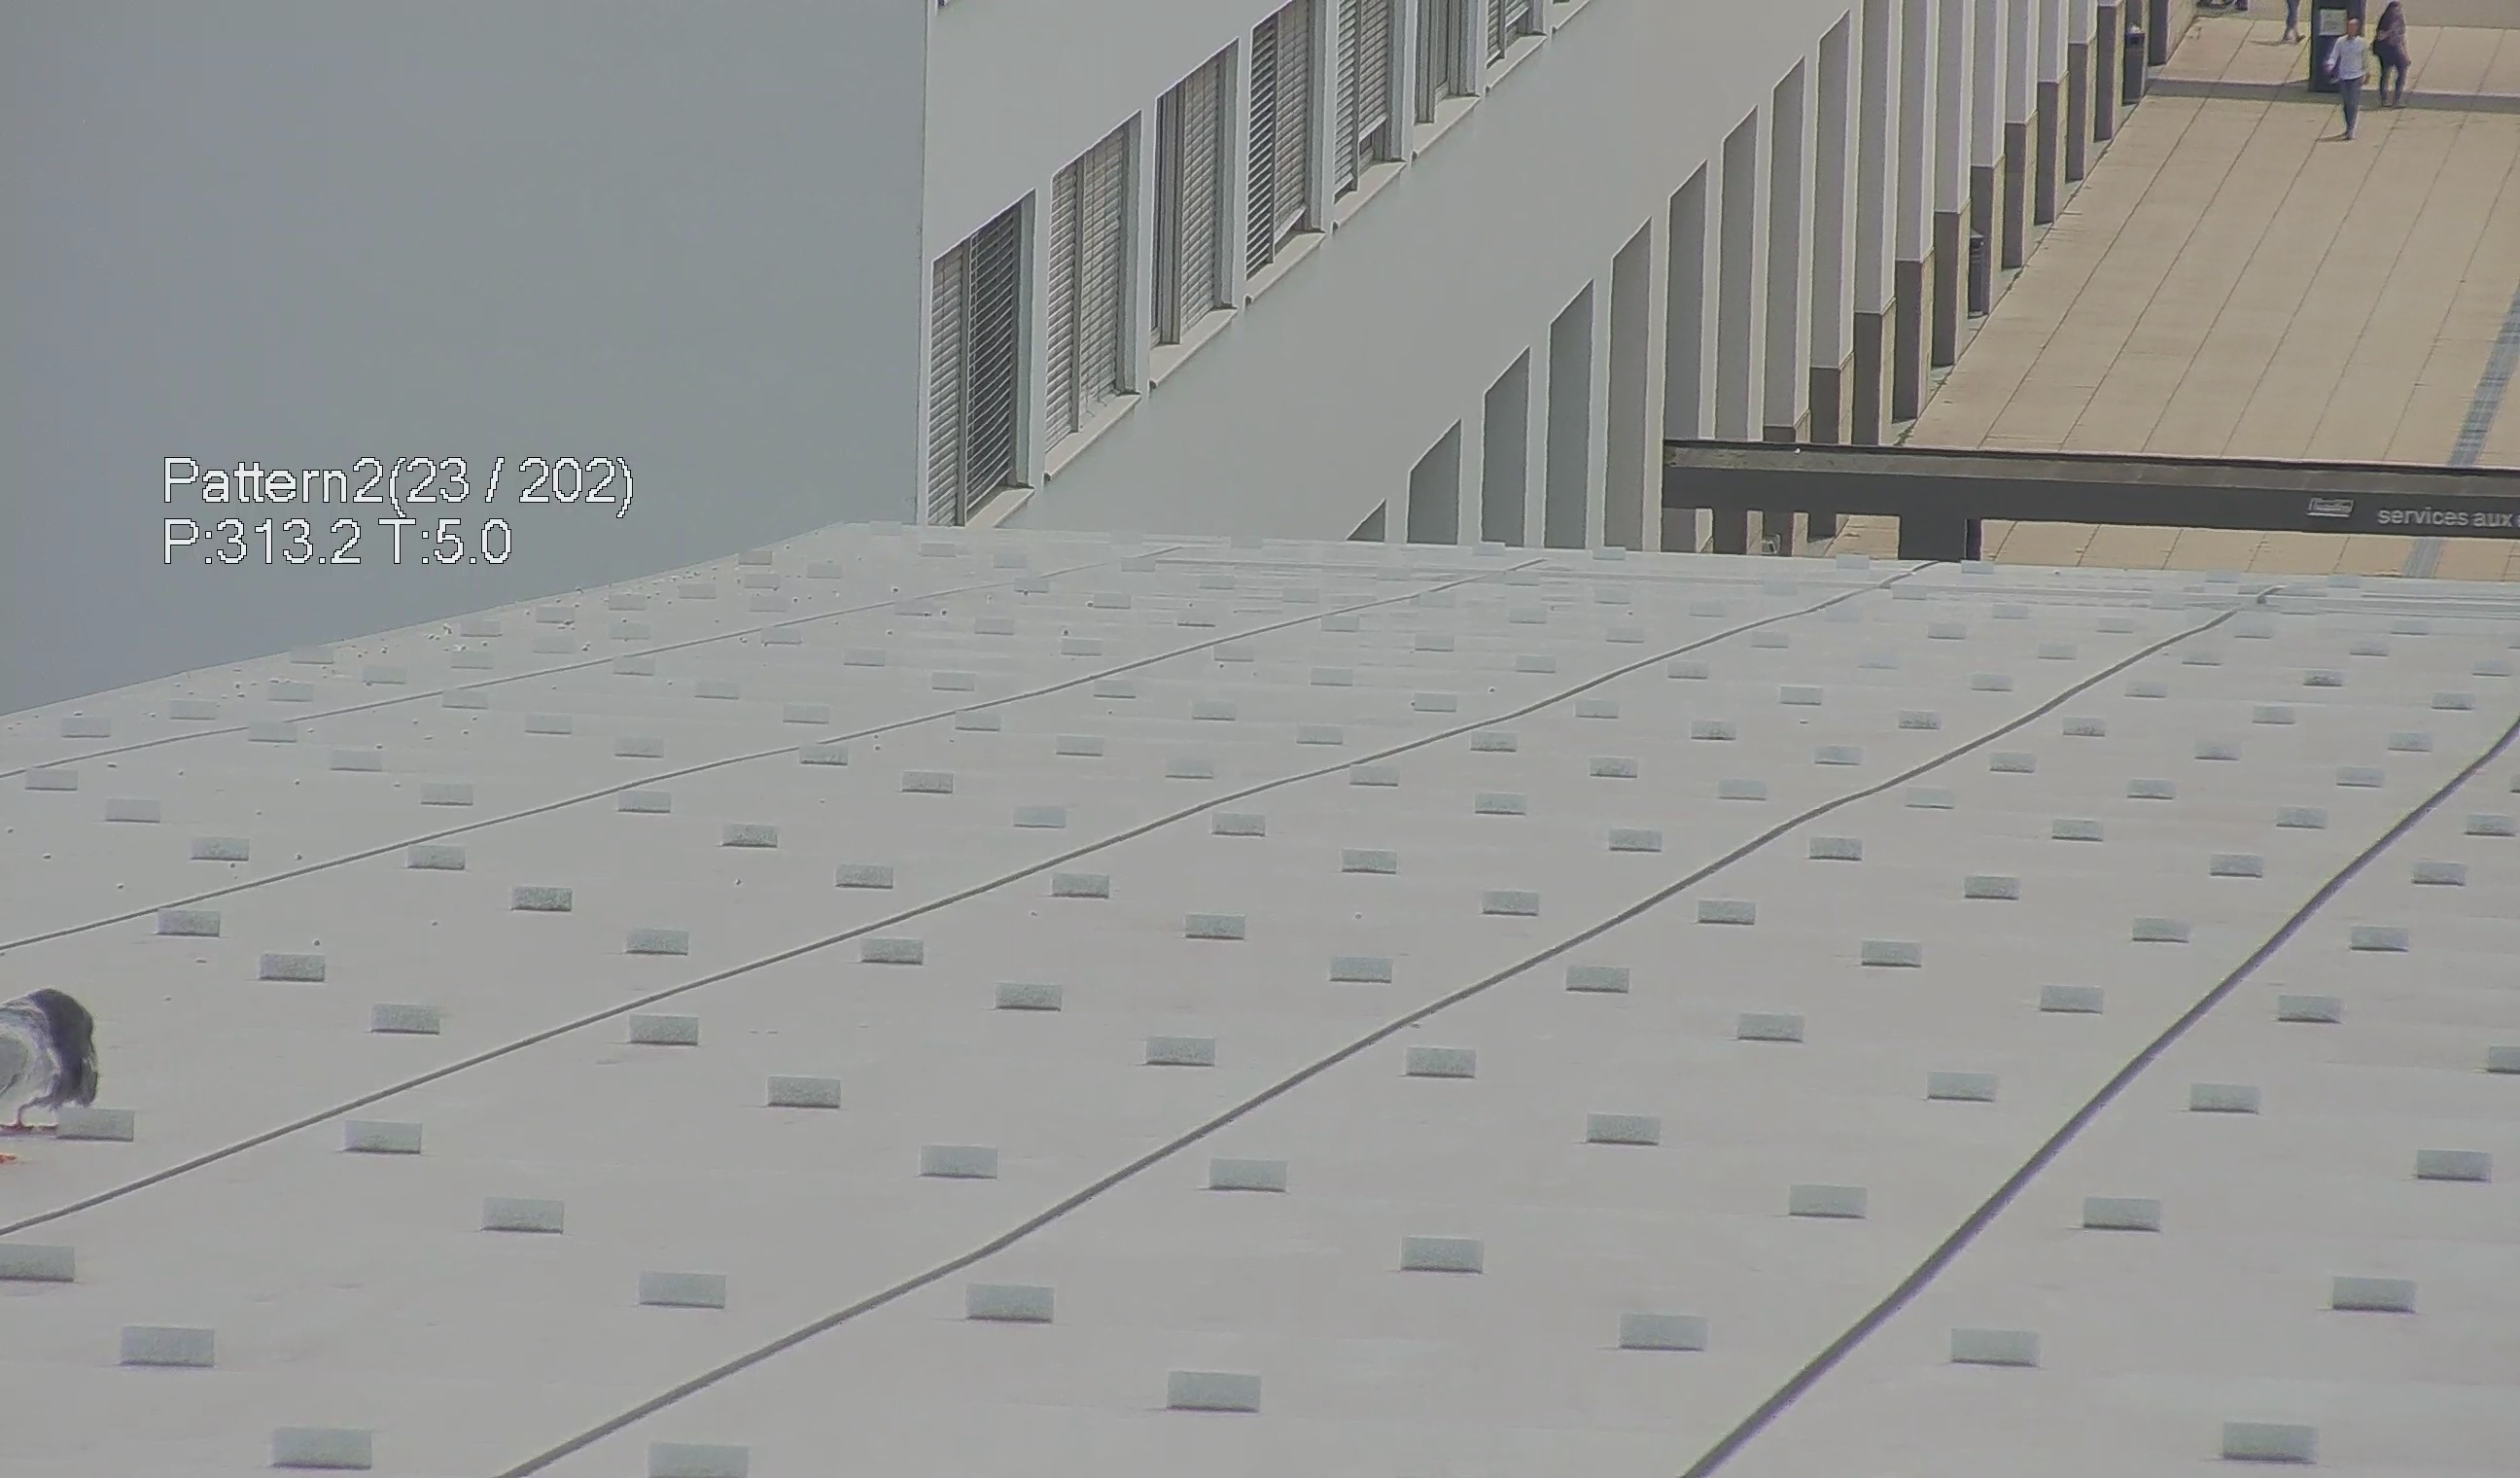Pigeon: (2, 978, 132, 1144)
